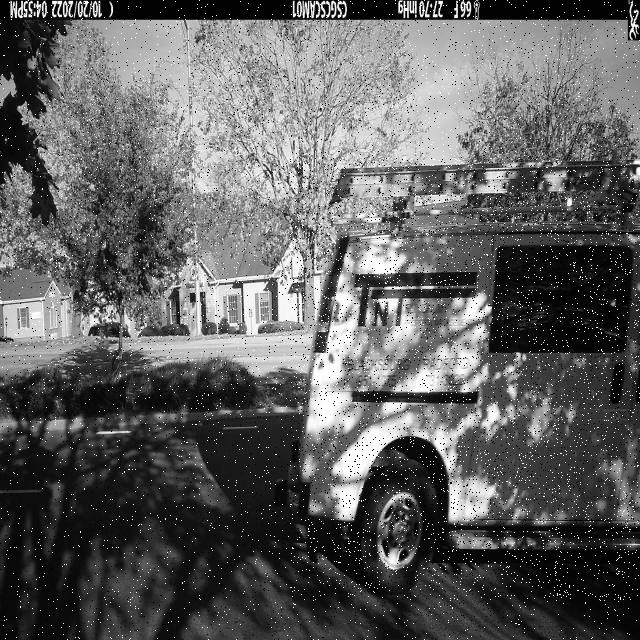Van: (290, 158, 640, 599)
